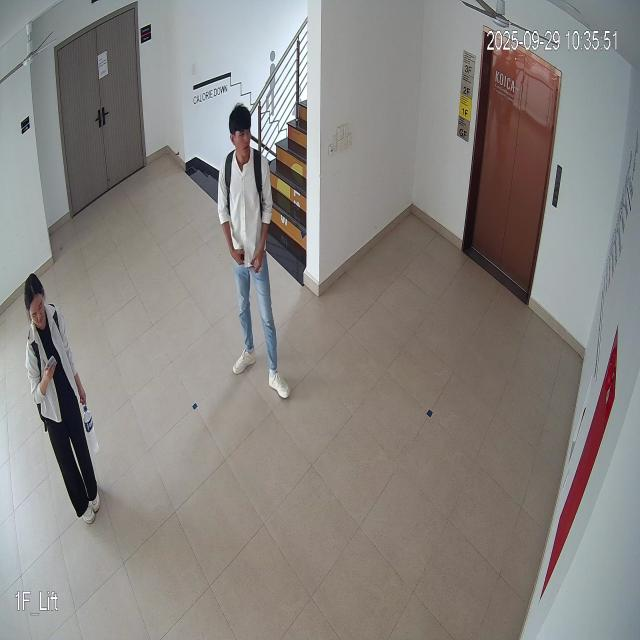face: (20, 270, 50, 336), (227, 99, 255, 166)
